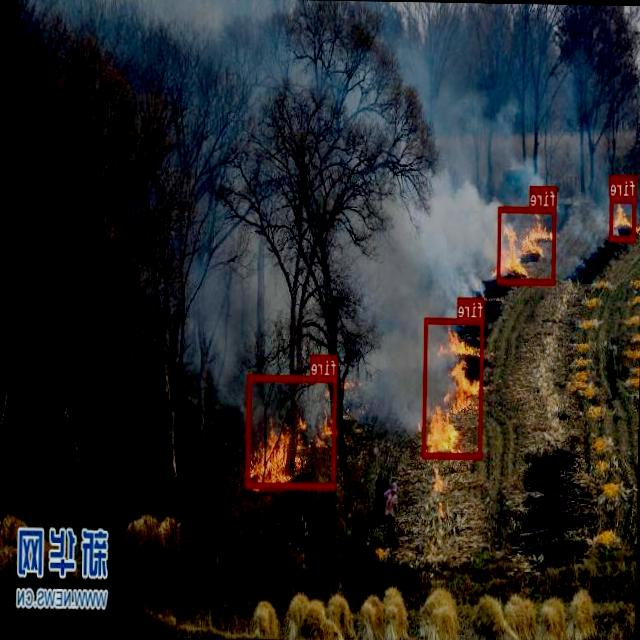fire: (246, 373, 337, 488), (423, 316, 484, 458), (498, 205, 556, 283), (610, 196, 636, 241)
